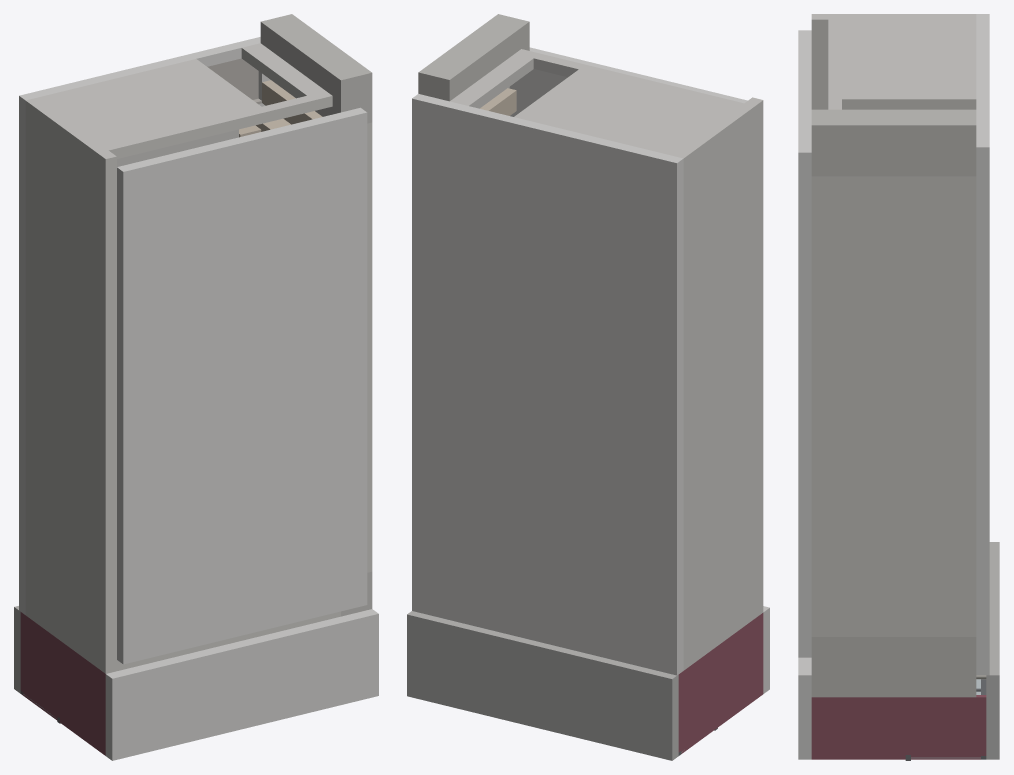
Rendered from soho1415_master.glb.
3 renders of one model, left to right at view 1: azimuth 30°, elevation 25°; view 2: azimuth 150°, elevation 25°; view 3: azimuth 270°, elevation 25°, orthographic. The views are drawn at different scales.
Parts seen in each view (by area): view 1: CEILING, WALL_EXT_WEST, BALCONY_SOFFIT, WALL_EXT_NORTH, BALCONY_PARTITION_W, FLOOR_SLAB, COLUMN_NE, WALL_EXT_EAST, WALL_EXT_SOUTH, ENTRANCE, KITCHEN, PS; view 2: FLOOR_SLAB, WALL_EXT_WEST, BALCONY_SLAB, WALL_EXT_NORTH, BALCONY_PARTITION_W, COLUMN_NE, CEILING, KITCHEN; view 3: WALL_EXT_EAST, WALL_EXT_NORTH, COLUMN_NE, BALCONY_PARTITION_E, COLUMN_SE, FLOOR_SLAB, CEILING, BALCONY_SLAB, WALL_EXT_WEST, BALCONY_SOFFIT.
Part boxes in pixels (x1,y1,x2,y2): CEILING: (117,107,367,664); WALL_EXT_WEST: (25,98,116,673); BALCONY_SOFFIT: (105,609,378,760); WALL_EXT_NORTH: (37,43,332,158); BALCONY_PARTITION_W: (20,612,105,755); FLOOR_SLAB: (19,37,270,614); COLUMN_NE: (260,14,372,123); WALL_EXT_EAST: (367,122,372,572); WALL_EXT_SOUTH: (117,611,340,670); ENTRANCE: (207,58,261,104); KITCHEN: (256,80,322,131); PS: (117,129,238,166); FLOOR_SLAB: (412,94,683,675); WALL_EXT_WEST: (673,97,763,670); BALCONY_SLAB: (407,611,678,760); WALL_EXT_NORTH: (450,49,743,155); BALCONY_PARTITION_W: (678,613,763,753); COLUMN_NE: (418,14,529,101); CEILING: (509,47,747,116); KITCHEN: (480,88,516,115); WALL_EXT_EAST: (811,176,976,636); WALL_EXT_NORTH: (828,19,976,109); COLUMN_NE: (811,109,976,176); BALCONY_PARTITION_E: (811,695,986,759); COLUMN_SE: (811,637,976,697); FLOOR_SLAB: (976,14,989,675); CEILING: (798,30,811,657); BALCONY_SLAB: (986,542,999,759); WALL_EXT_WEST: (811,14,976,109); BALCONY_SOFFIT: (798,657,811,759).
Bounding box in the file's own units: 4700 × 10442 × 3000.
